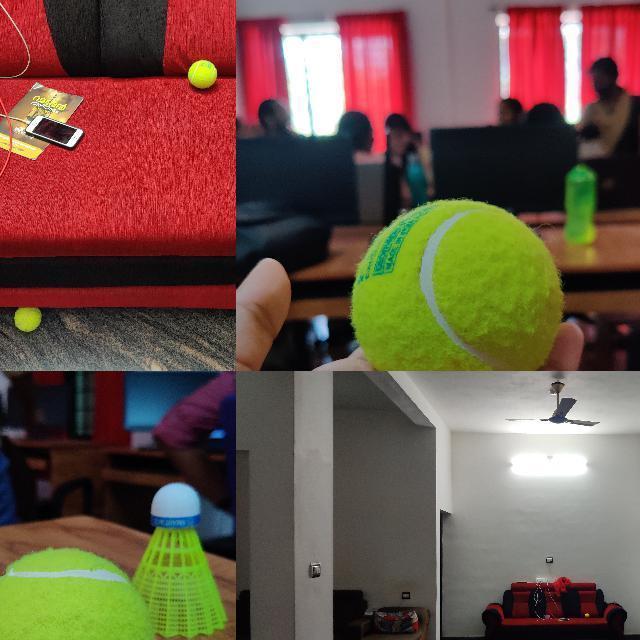tennis-ball: (352, 200, 561, 370), (0, 549, 153, 639), (187, 60, 217, 89), (13, 308, 41, 332), (585, 613, 589, 617)
